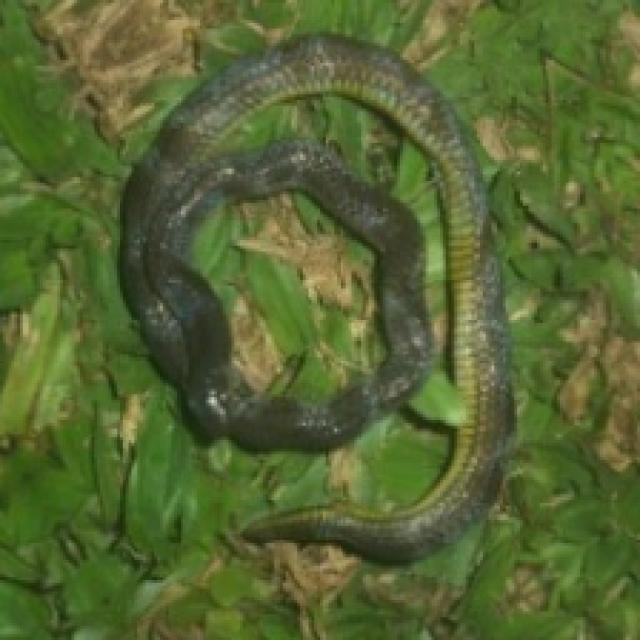gervais worm snake: (120, 34, 511, 560)
